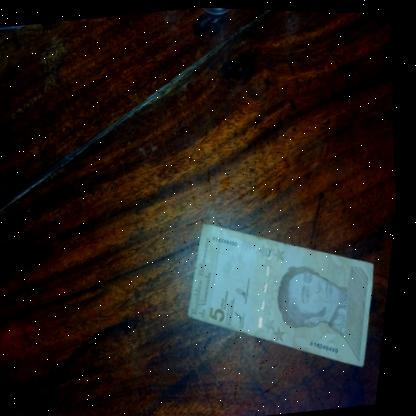five-front-vef: (175, 196, 397, 387)
